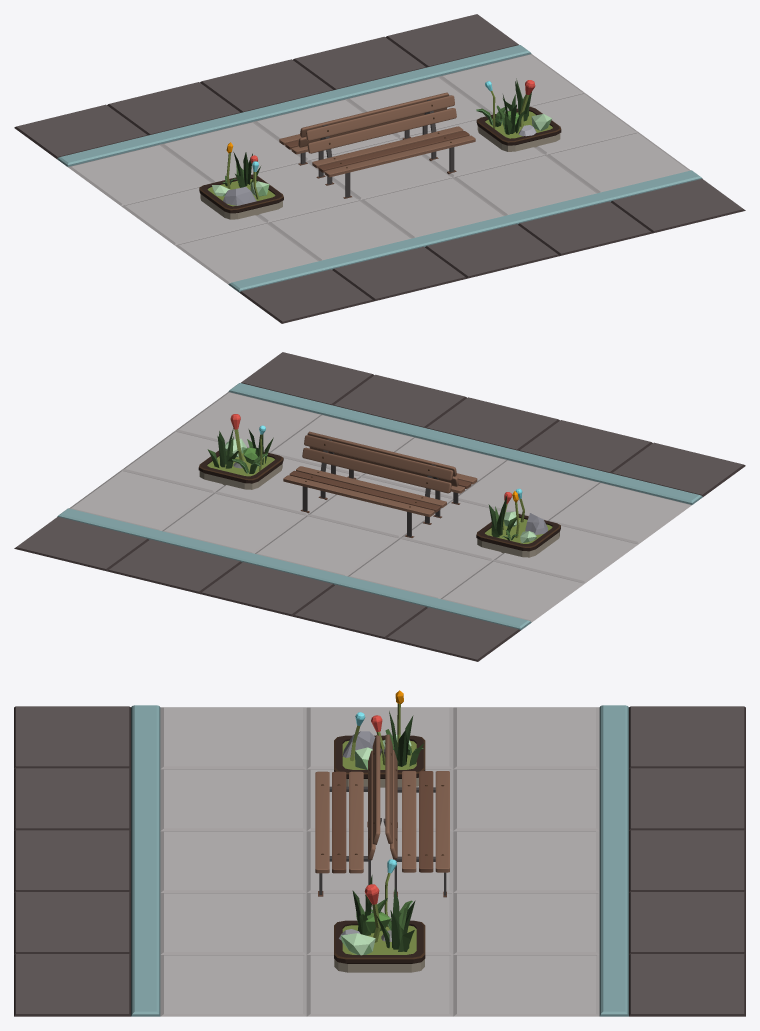
Rendered from Road_A.glb.
The picture shows the model from 3 angles, top to bottom: view 1: azimuth 30°, elevation 25°; view 2: azimuth 150°, elevation 25°; view 3: azimuth 270°, elevation 25°; orthographic projection. The views are drawn at different scales.
Visible parts, largest first — view 1: Road_A, Bench01.008, Cube.275, Bench01.009, Cube.274; view 2: Road_A, Bench01.009, Cube.274, Cube.275, Bench01.008, Grass_03.634; view 3: Road_A, Bench01.008, Bench01.009, Cube.274, Cube.275, Grass_03.634, Grass_03.635, Tree_03.1507, Grass_03.633.
Part boxes in pixels (x1,y1,x2,y2): Road_A: (14,14,745,323); Bench01.008: (305,95,475,198); Cube.275: (199,174,283,219); Bench01.009: (279,92,449,178); Cube.274: (476,106,561,151); Road_A: (14,352,745,661); Bench01.009: (283,435,453,537); Cube.274: (198,447,283,489); Cube.275: (476,514,560,557); Bench01.008: (307,431,477,518); Grass_03.634: (207,428,238,468); Road_A: (14,705,745,1016); Bench01.008: (315,735,381,896); Bench01.009: (383,734,449,897); Cube.274: (334,920,425,972); Cube.275: (334,735,425,787); Grass_03.634: (376,887,415,951); Grass_03.635: (384,711,424,766); Tree_03.1507: (341,933,375,955); Grass_03.633: (352,875,387,935).
Size of the model in its own units: 16 by 1.94 by 16.
1 material, 1 textured.
